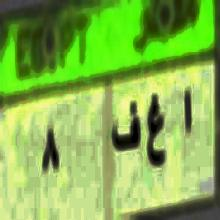8: (40, 123, 60, 179)
alif: (182, 83, 194, 139)
faa: (111, 102, 141, 156)
ghayn: (144, 91, 166, 173)
